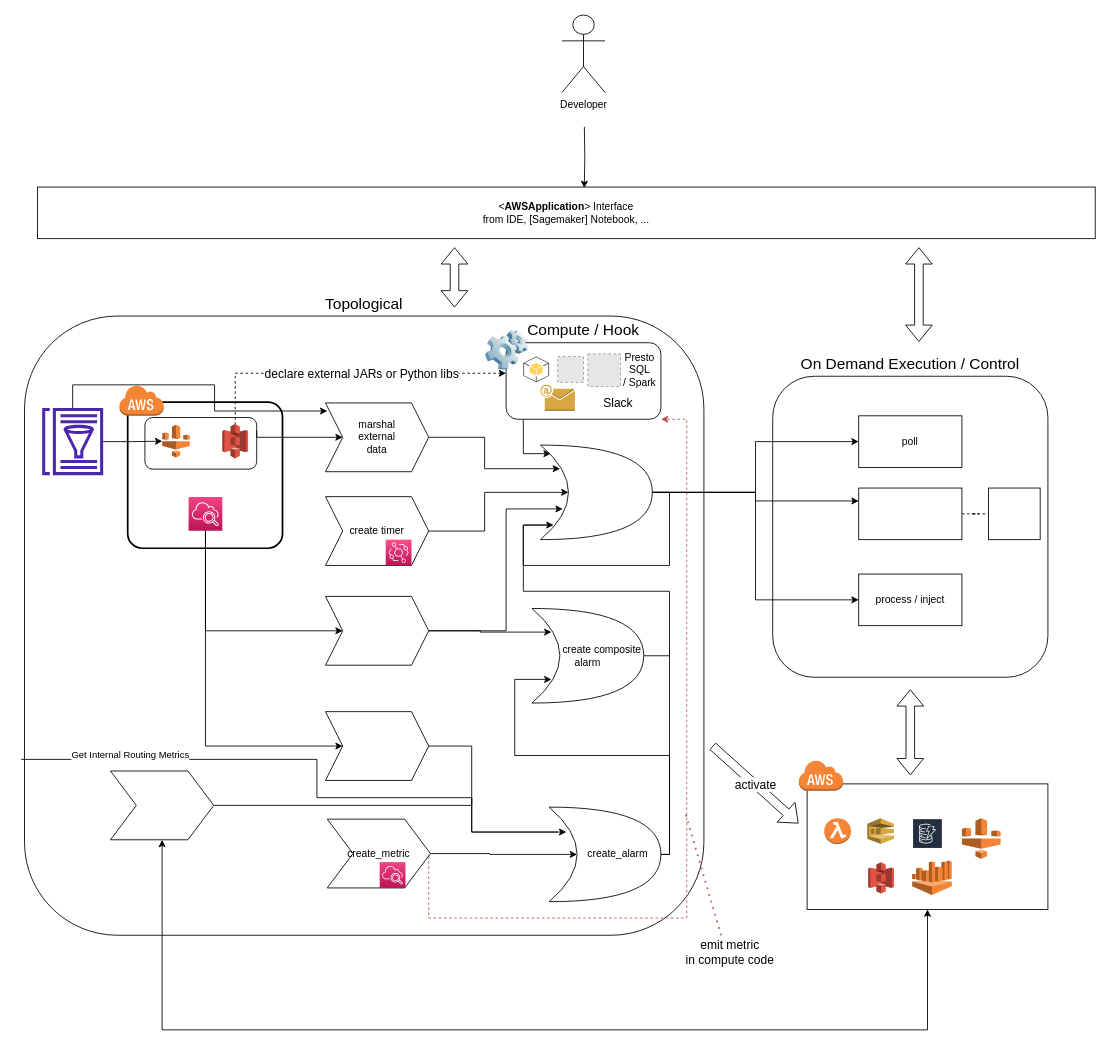
Some shapes in this 1110 by 1053 pixel diagram are drawn without their labels. Grey dashed boxes stand in for pictures. The centre of each missing label's shape, as x and y in pixels:
create_data: [596,492]
execute [recursive, a/sync]: [910,513]
get system metrics: [162,805]
kill: [1014,513]
marshal external alarm: [377,630]
marshal external metric: [377,745]
